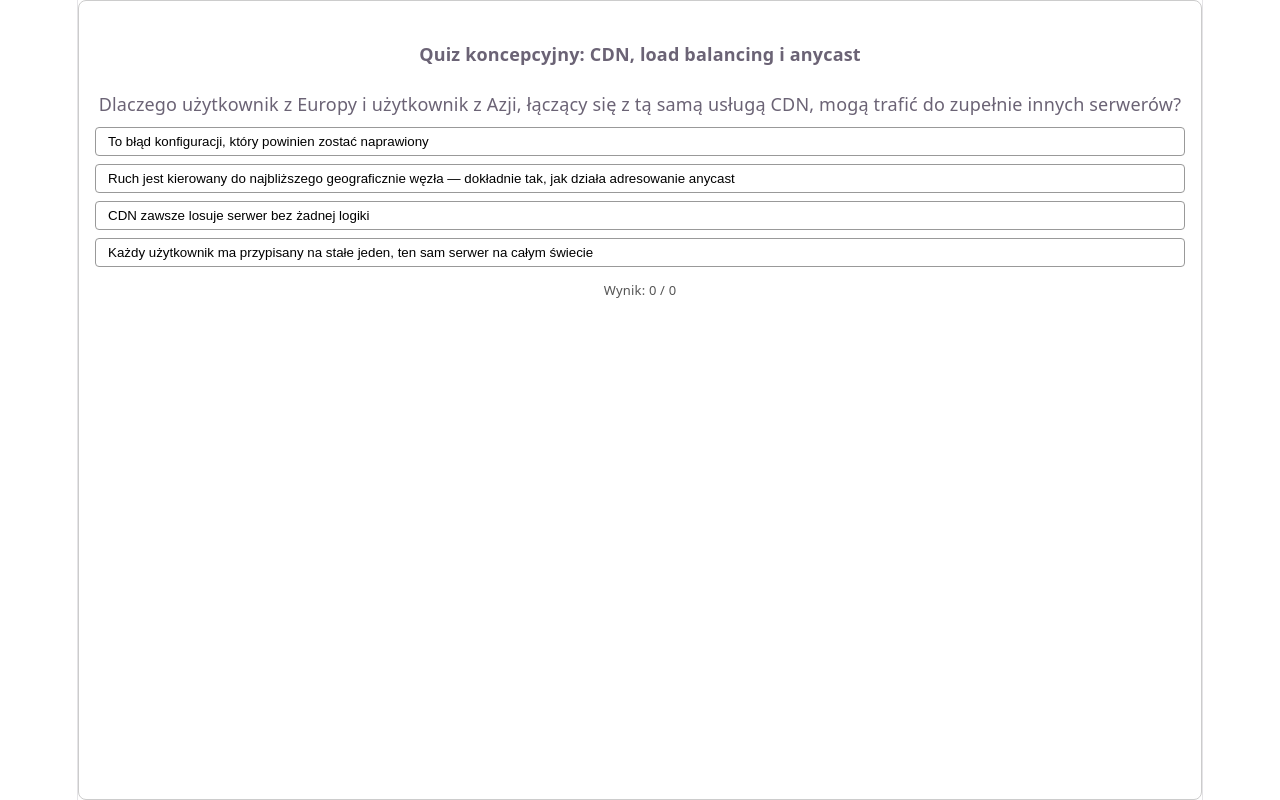
Test case: CdnAndAnycastQuiz › shows feedback without incrementing correct count after a wrong answer
Click the button "CDN zawsze losuje serwer bez żadnej logiki".
click(239, 216)  # box [95,201,1185,230]
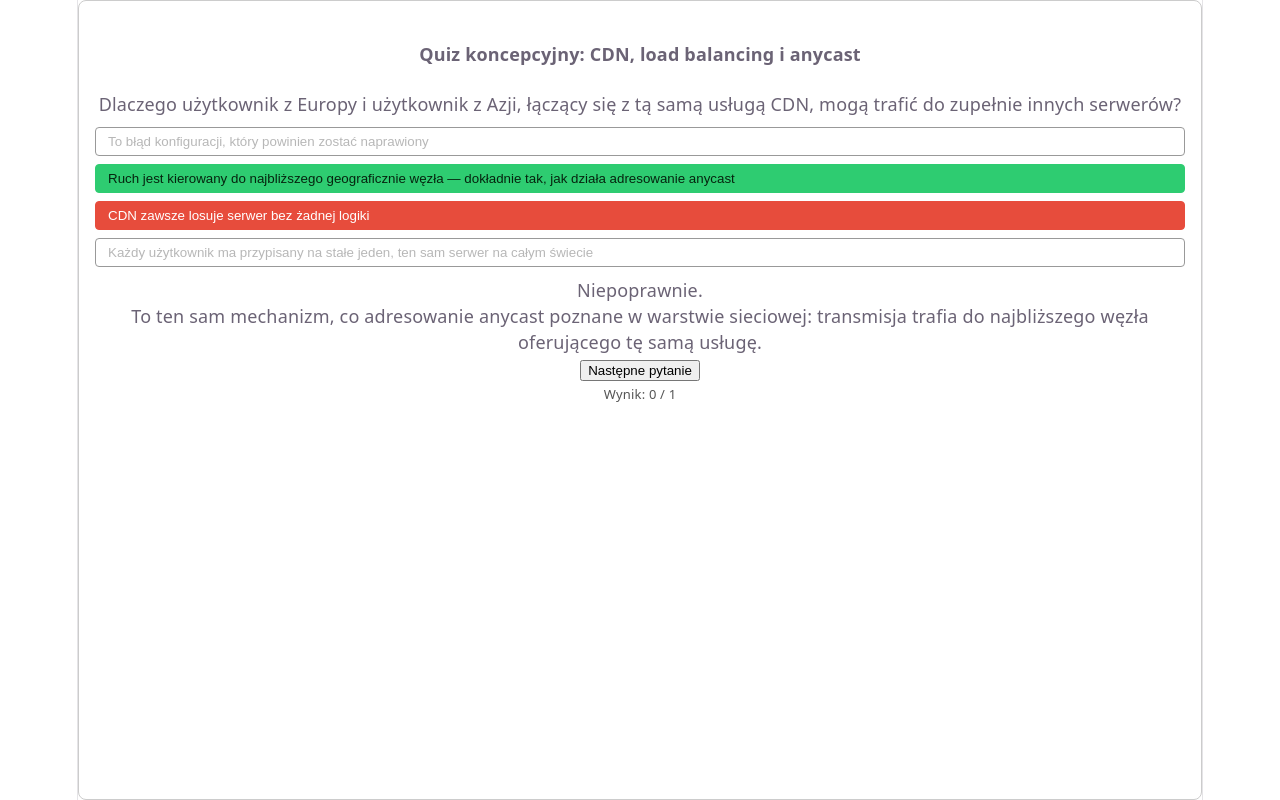
Result: the text "Niepoprawnie." is shown at [577,278,703,302]
Result: the text "Wynik: 0 / 1" is shown at [604,385,676,403]
